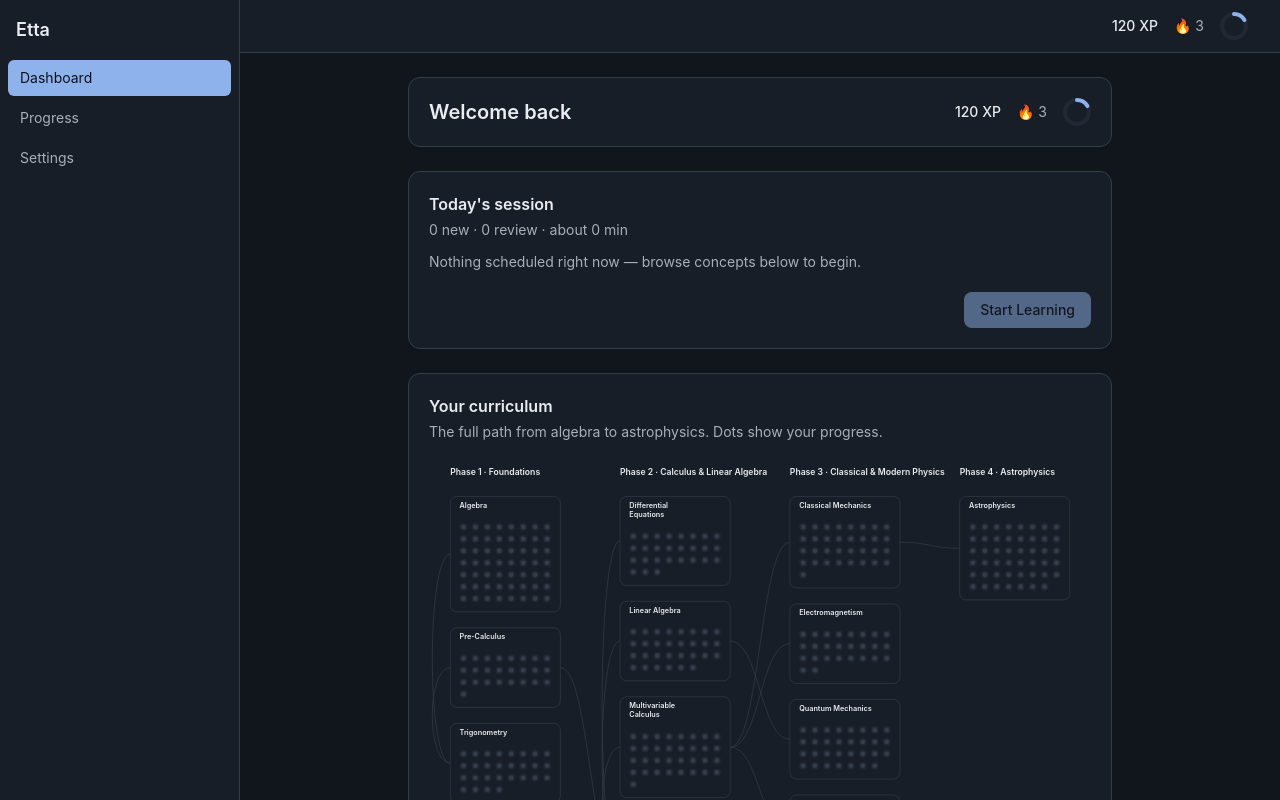
Test: App boot (H6 settings hydration + C1 one-shot gate) › never re-checks the onboarding flag when navigating (done is terminal)
Check: the heading "Welcome back" is shown, box [429,98,571,126]
Click the link "Settings": (47, 158) [20,149,74,166]
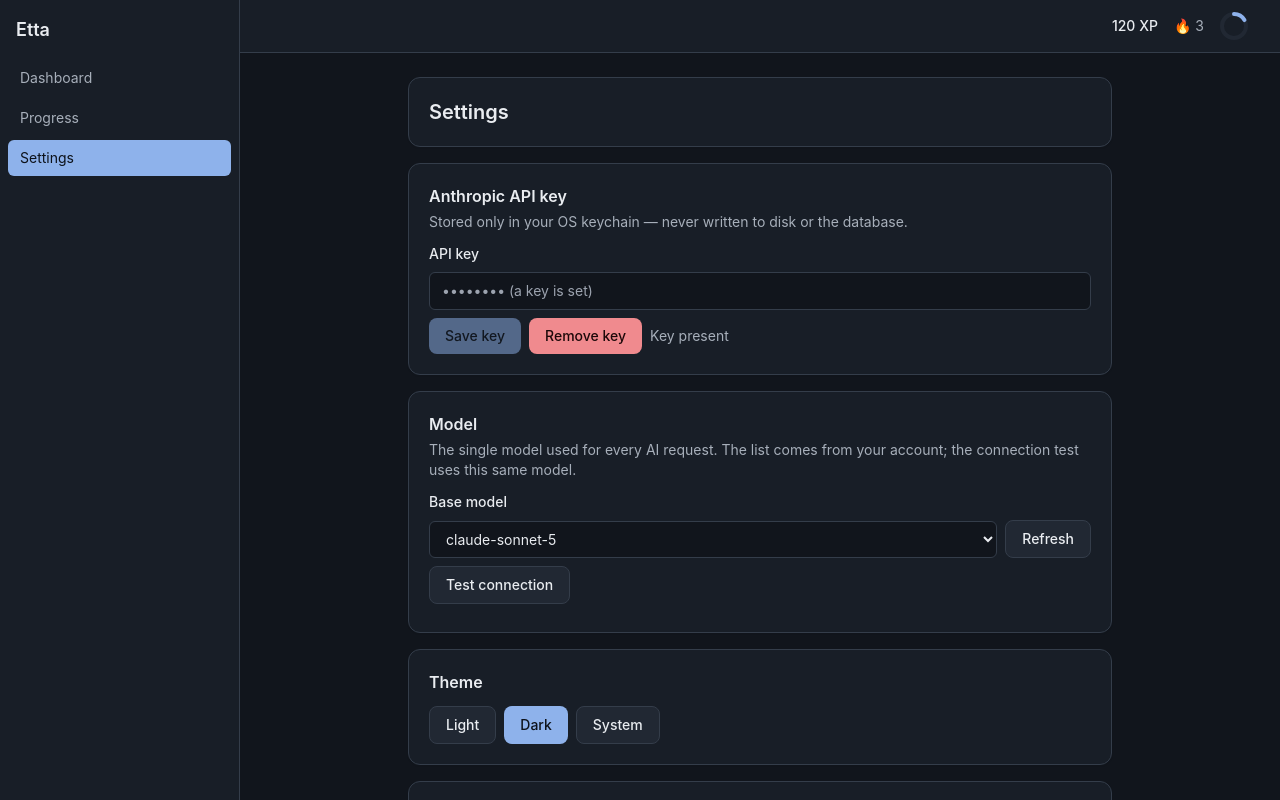
Check: the heading "Settings" is shown, box [429,100,509,124]
Click the link "Dashboard": (56, 78) [20,69,92,86]
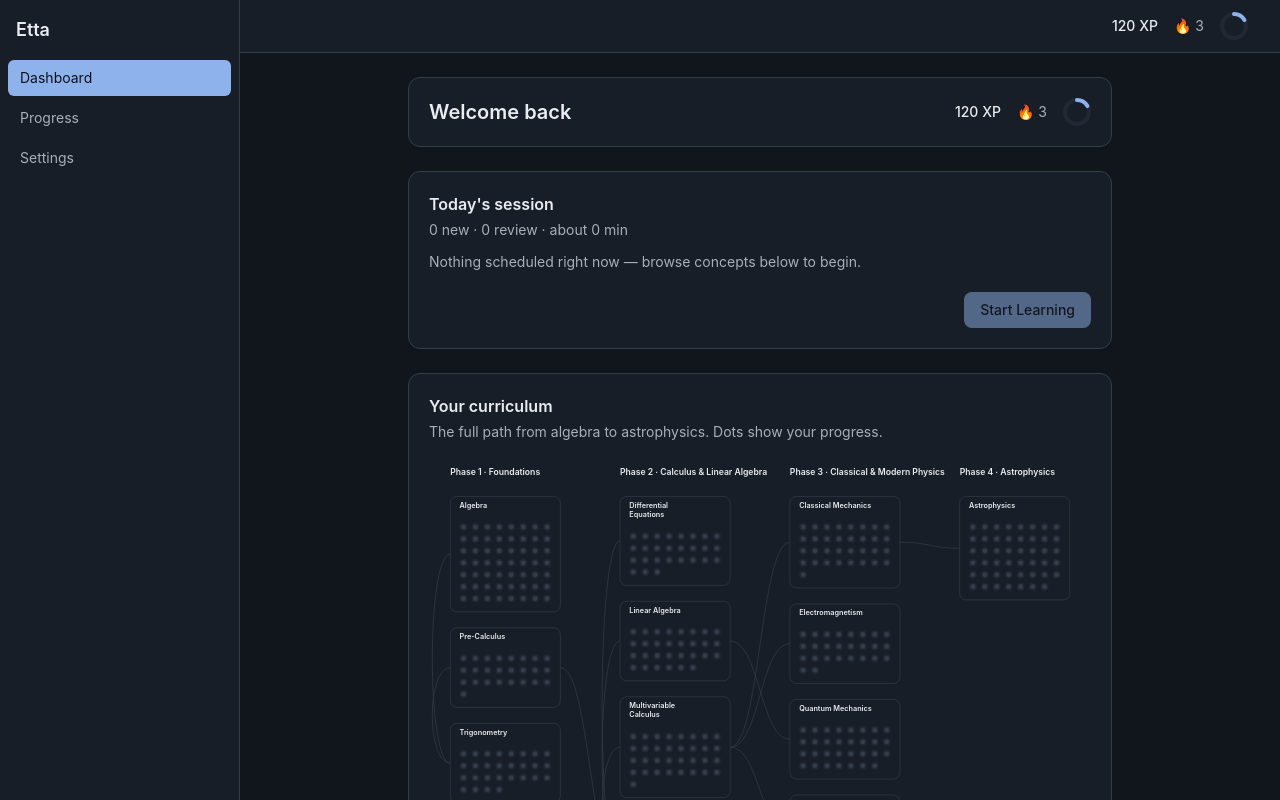
Check: the heading "Welcome back" is shown, box [429,98,571,126]
